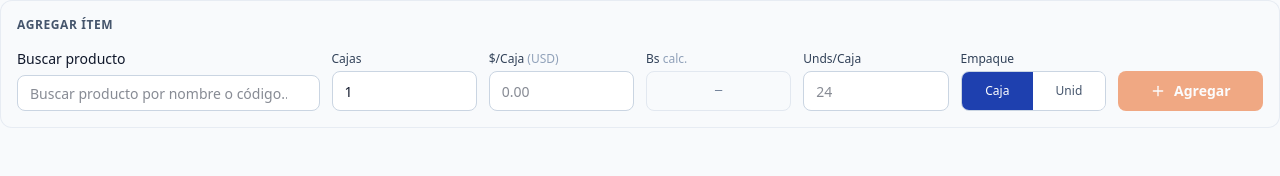
LineItemInputRow › Unit price helper text (=/und) — USD mode › shows correct unit cost when cost is entered in USD
The width and height of the screenshot is (1280, 176).
Type "22" into the number field labelled "$/Caja (USD)" at (561, 91), box [489,71,634,111]
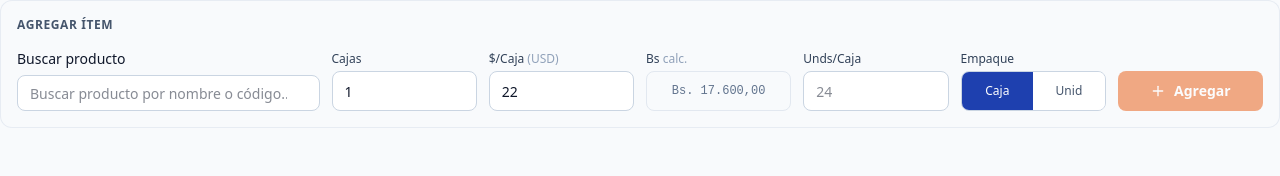
Type "36" into the number field labelled "Unds/Caja" at (876, 91), box [803,71,949,111]
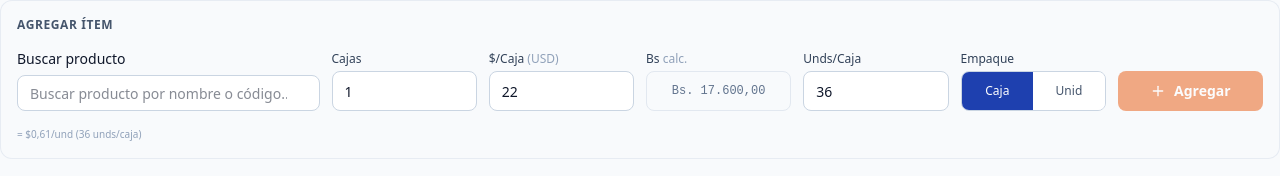
Result: the text "= $0,61/und (36 unds/caja)" is shown at [17,127,141,141]
